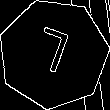L_S: (30, 25, 77, 83)
